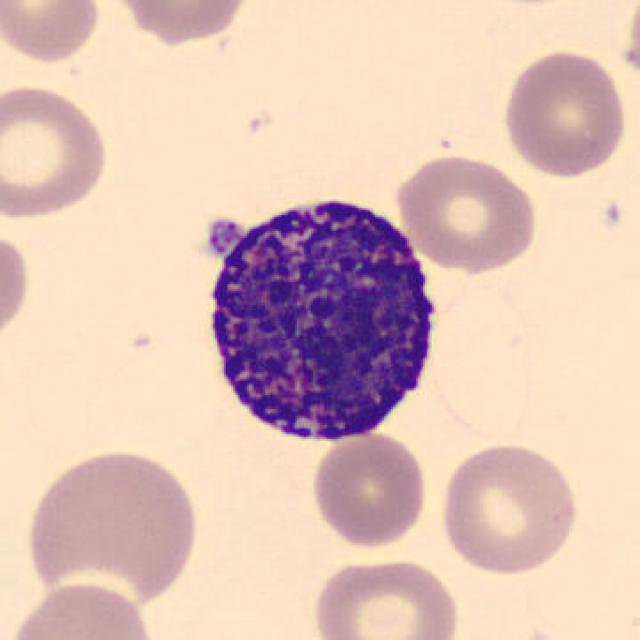Basophil: (188, 178, 454, 457)
RBC: (19, 444, 202, 612), (436, 438, 582, 578), (391, 150, 541, 273), (498, 46, 629, 180), (0, 79, 114, 222), (308, 429, 432, 550), (307, 553, 464, 640), (4, 578, 160, 640), (101, 0, 258, 44), (0, 0, 103, 65), (0, 226, 32, 354), (620, 2, 640, 86)
